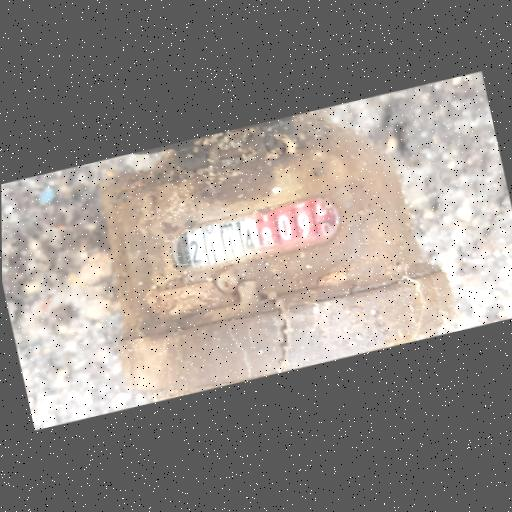0: (270, 204, 300, 253)
1: (201, 221, 229, 269), (218, 218, 246, 264)
2: (183, 225, 211, 273)
4: (234, 213, 263, 261)
8: (251, 209, 281, 257), (308, 197, 336, 245)
9: (289, 200, 319, 248)
border_water_meter_number: (165, 189, 349, 283)
